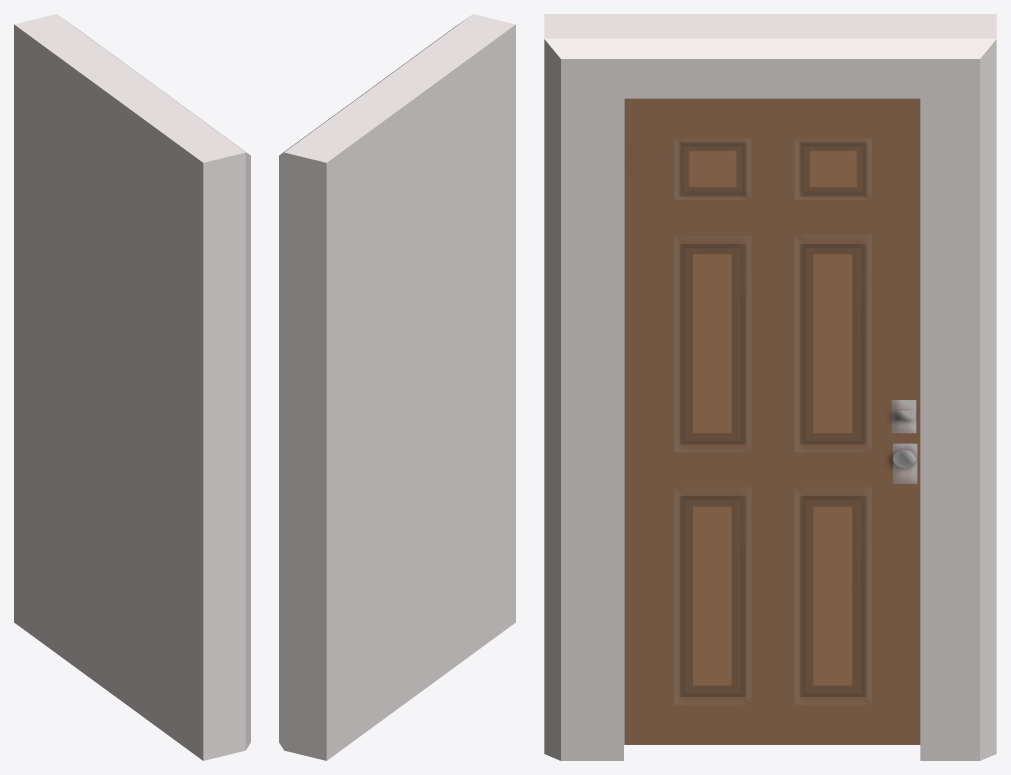
Rendered from HouseDoorFBX.fbx.
3 renders of one model, left to right at view 1: azimuth 30°, elevation 25°; view 2: azimuth 150°, elevation 25°; view 3: azimuth 270°, elevation 25°, orthographic. The views are drawn at different scales.
Visible parts, largest first — view 1: polySurface1; view 2: polySurface1; view 3: polySurface1.
Boxes of the visible parts, bbox=[...] form: polySurface1: bbox=[14, 14, 250, 760]; polySurface1: bbox=[279, 14, 515, 760]; polySurface1: bbox=[544, 14, 996, 760].
Size of the model in its own units: 67.96 by 711 by 408.
